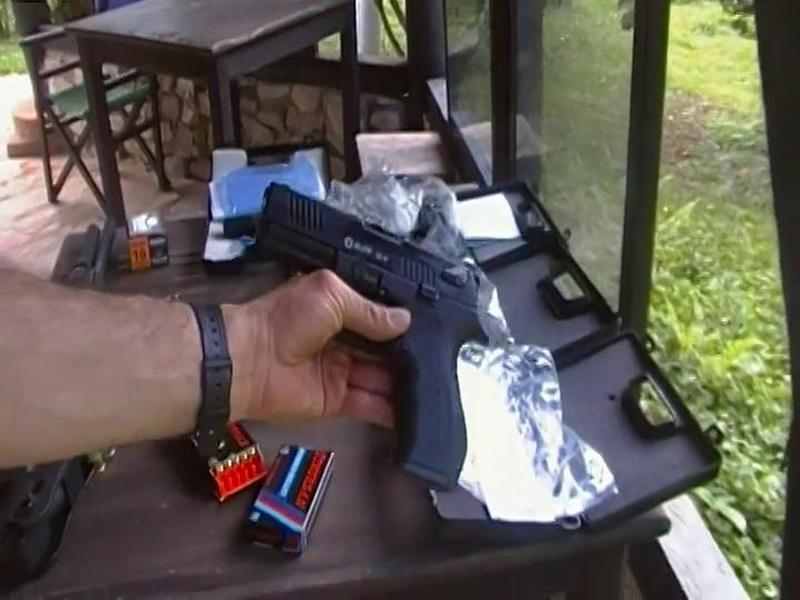Pistola: (237, 154, 503, 504)
